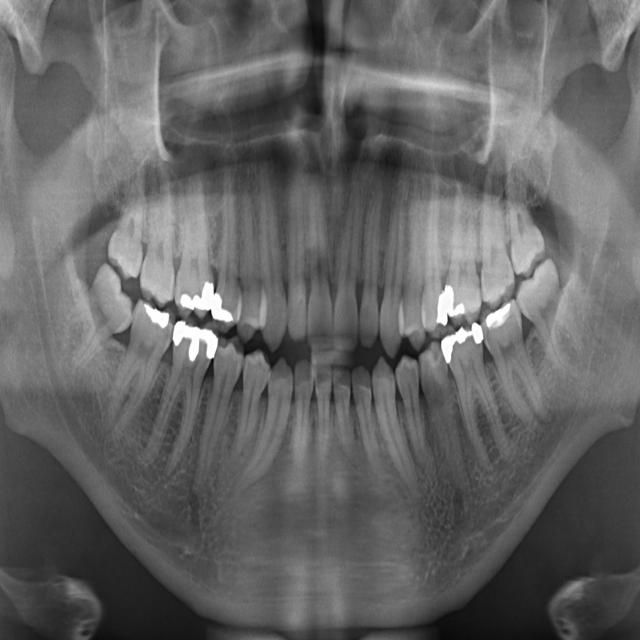AmalgamRestoration: (173, 324, 217, 365), (443, 325, 485, 364), (179, 281, 213, 311), (484, 296, 509, 334), (142, 300, 171, 330), (446, 288, 467, 320), (210, 292, 231, 318), (437, 287, 446, 322)
DentalCaries: (468, 264, 482, 295), (471, 342, 487, 368), (213, 346, 225, 368)
